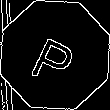P_NE: (27, 24, 83, 86)
